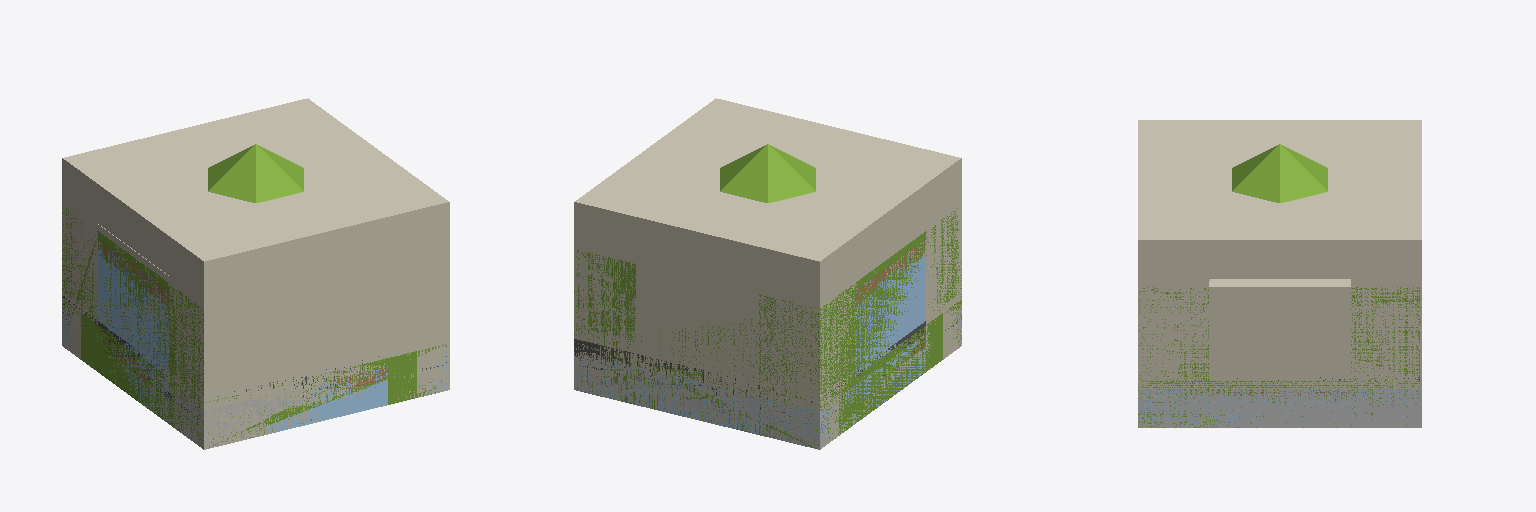
The picture shows the model from 3 angles: view 1: azimuth 30°, elevation 25°; view 2: azimuth 150°, elevation 25°; view 3: azimuth 270°, elevation 25°; orthographic projection.
Parts seen in each view (by area): view 1: roadTile_223.001, roadTile_006.001, roadTile_004.001, roadTile_039.001, roadTile_003.001, roadTile_189.001, roadTile_007.001, roadTile_020.001, roadTile_018.001, roadTile_002.001, roadTile_173.001, roadTile_001.004 (+3 smaller); view 2: roadTile_223.001, roadTile_007.001, roadTile_003.001, roadTile_018.001, roadTile_039.001, roadTile_020.001, roadTile_189.001, roadTile_009.001, roadTile_186.001, roadTile_001.004, roadTile_006.001, roadTile_002.001 (+6 smaller); view 3: roadTile_223.001, roadTile_007.001, roadTile_006.001, roadTile_001.004, roadTile_020.001, roadTile_186.001, roadTile_001.005, roadTile_004.001, roadTile_002.001.
Part boxes in pixels (bbox=[...]): roadTile_223.001: bbox=[62, 98, 449, 442]; roadTile_006.001: bbox=[62, 230, 449, 447]; roadTile_004.001: bbox=[62, 299, 447, 449]; roadTile_039.001: bbox=[62, 293, 448, 447]; roadTile_003.001: bbox=[62, 199, 449, 449]; roadTile_189.001: bbox=[63, 227, 202, 448]; roadTile_007.001: bbox=[204, 249, 449, 447]; roadTile_020.001: bbox=[208, 144, 303, 202]; roadTile_018.001: bbox=[62, 210, 203, 446]; roadTile_002.001: bbox=[62, 293, 449, 447]; roadTile_173.001: bbox=[119, 350, 441, 440]; roadTile_001.004: bbox=[62, 307, 446, 448]; roadTile_223.001: bbox=[574, 98, 961, 449]; roadTile_007.001: bbox=[574, 249, 819, 443]; roadTile_003.001: bbox=[578, 198, 961, 449]; roadTile_018.001: bbox=[590, 208, 961, 440]; roadTile_039.001: bbox=[577, 293, 961, 442]; roadTile_020.001: bbox=[720, 144, 815, 202]; roadTile_189.001: bbox=[820, 239, 947, 429]; roadTile_009.001: bbox=[574, 250, 819, 447]; roadTile_186.001: bbox=[574, 250, 819, 447]; roadTile_001.004: bbox=[574, 307, 961, 448]; roadTile_006.001: bbox=[584, 212, 961, 447]; roadTile_002.001: bbox=[574, 292, 961, 448]; roadTile_223.001: bbox=[1138, 120, 1421, 425]; roadTile_007.001: bbox=[1138, 279, 1421, 427]; roadTile_006.001: bbox=[1138, 287, 1421, 410]; roadTile_001.004: bbox=[1138, 389, 1421, 427]; roadTile_020.001: bbox=[1232, 144, 1327, 202]; roadTile_186.001: bbox=[1138, 279, 1421, 426]; roadTile_001.005: bbox=[1151, 389, 1421, 426]; roadTile_004.001: bbox=[1138, 381, 1421, 427]; roadTile_002.001: bbox=[1138, 374, 1421, 427].
Bounding box in the file's own units: 3 × 2.62 × 3.